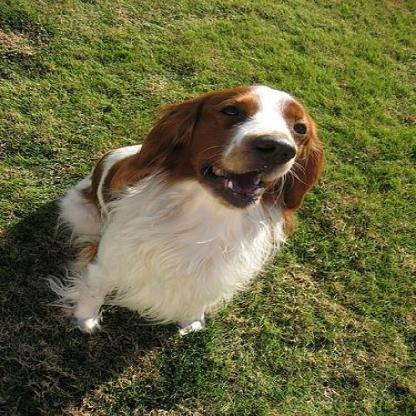Welsh_springer_spaniel: (33, 81, 326, 337)
